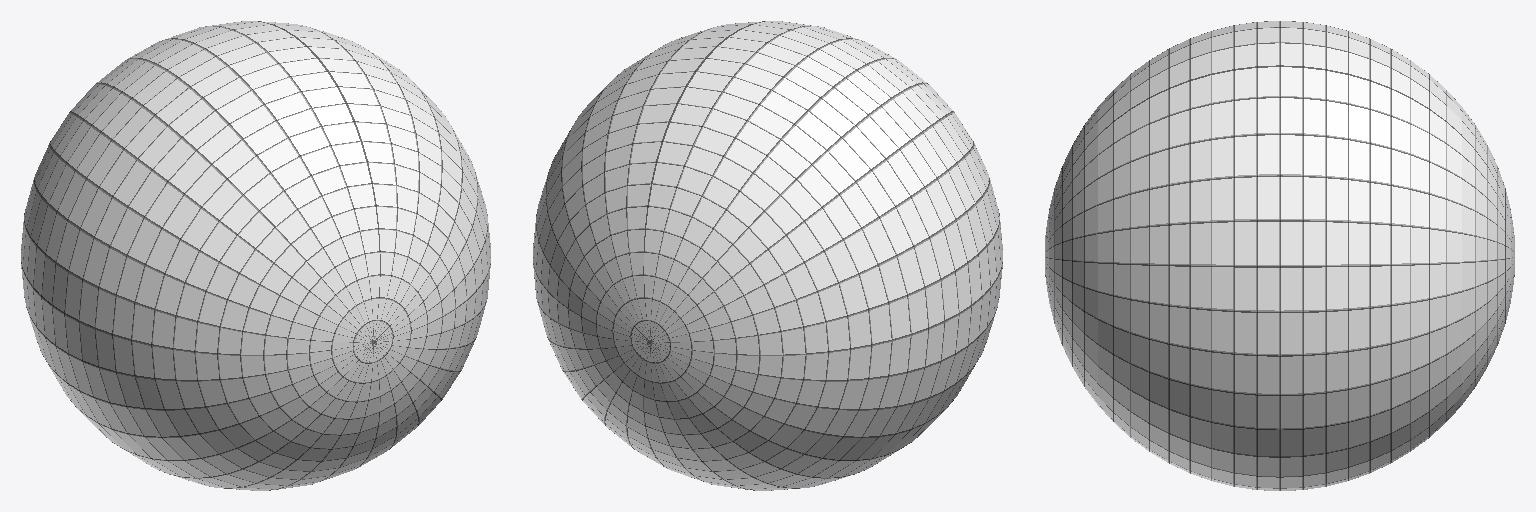
3 renders of one model, left to right at view 1: azimuth 30°, elevation 25°; view 2: azimuth 150°, elevation 25°; view 3: azimuth 270°, elevation 25°, orthographic.
Visible parts, largest first — view 1: Sphere; view 2: Sphere; view 3: Sphere.
Boxes of the visible parts, <box> form: Sphere: <box>21,21,490,490</box>; Sphere: <box>533,21,1002,490</box>; Sphere: <box>1045,21,1514,490</box>.
Bounding box in the file's own units: 1 × 1 × 1.
1 materials, 1 textured.